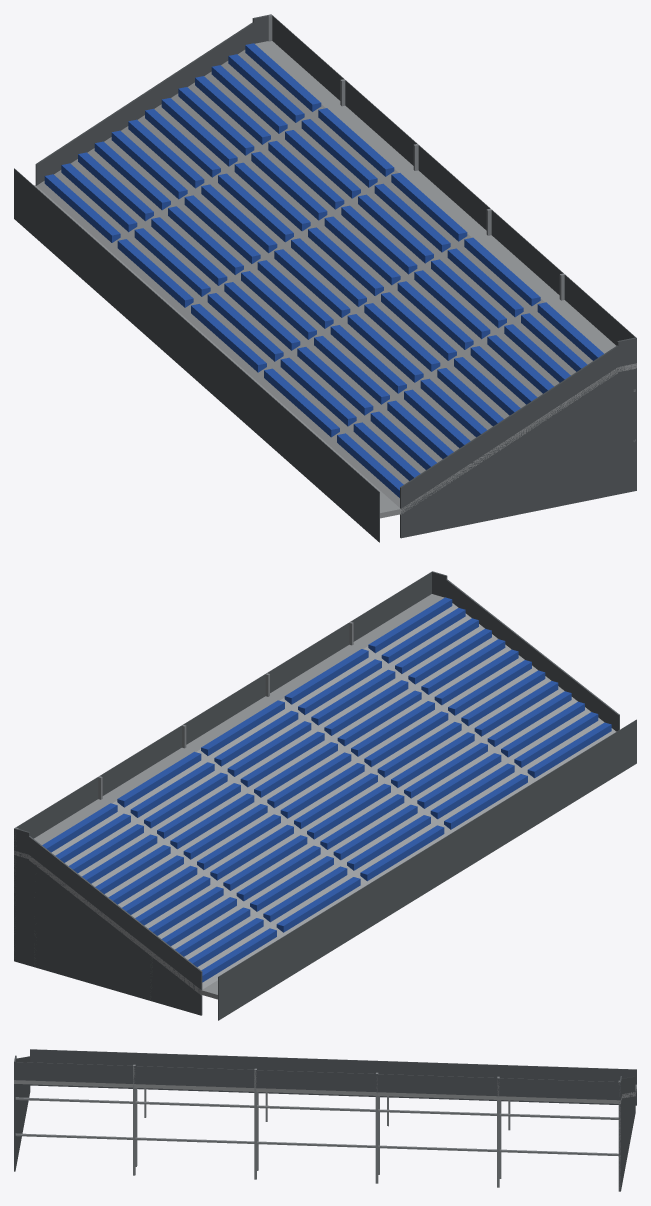
The model's file is mza_stand_lat_parabolica_e.glb.
The picture shows the model from 3 angles, top to bottom: view 1: azimuth 30°, elevation 25°; view 2: azimuth 150°, elevation 25°; view 3: azimuth 270°, elevation 25°; orthographic projection. The views are drawn at different scales.
Visible parts, largest first — view 1: monza-lat-parabolica-e; view 2: monza-lat-parabolica-e; view 3: monza-lat-parabolica-e.
Part boxes in pixels (x1,y1,x2,y2): monza-lat-parabolica-e: (14, 14, 636, 542); monza-lat-parabolica-e: (14, 571, 636, 1020); monza-lat-parabolica-e: (14, 1049, 636, 1191).
Size of the model in its own units: 15.17 by 7.28 by 37.55.
